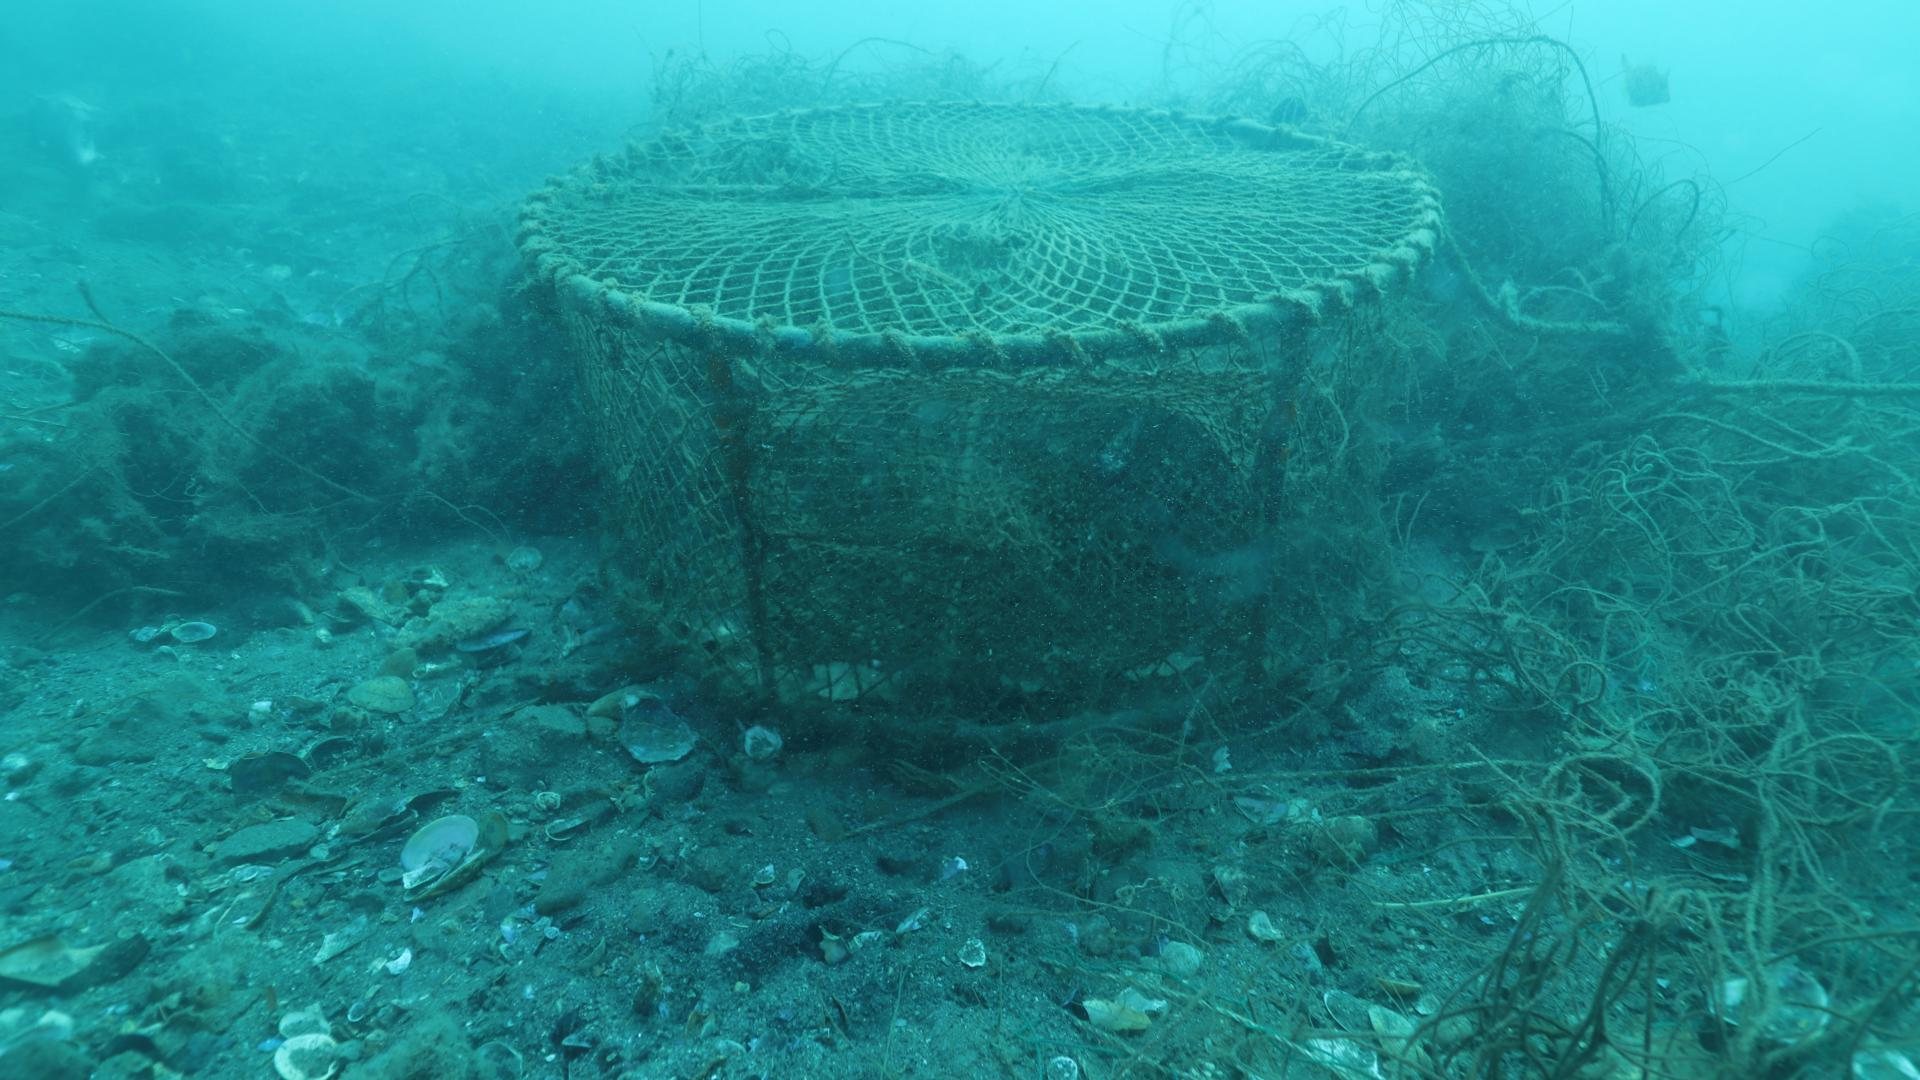bundle of rope: (1503, 297, 1920, 965)
circular fish trap: (509, 102, 1447, 750)
